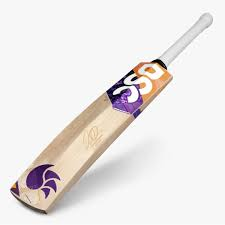bottom left: (4, 182, 20, 198)
bottom right: (36, 201, 54, 219)
top left: (134, 58, 145, 69)
top right: (164, 72, 176, 84)
